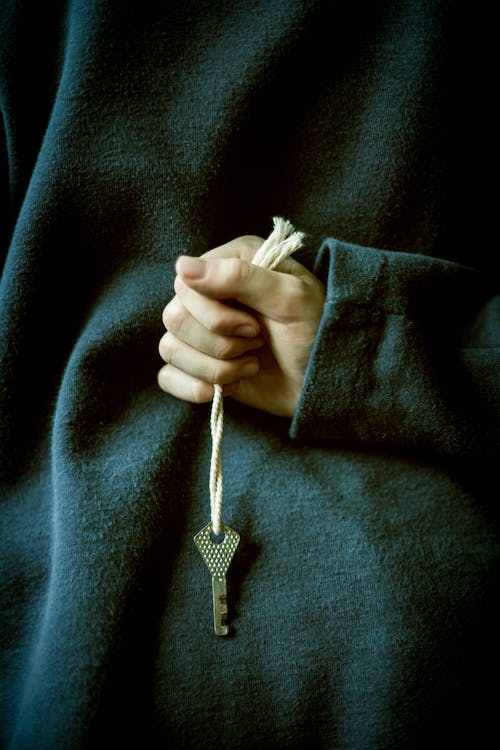key: (193, 519, 242, 637)
